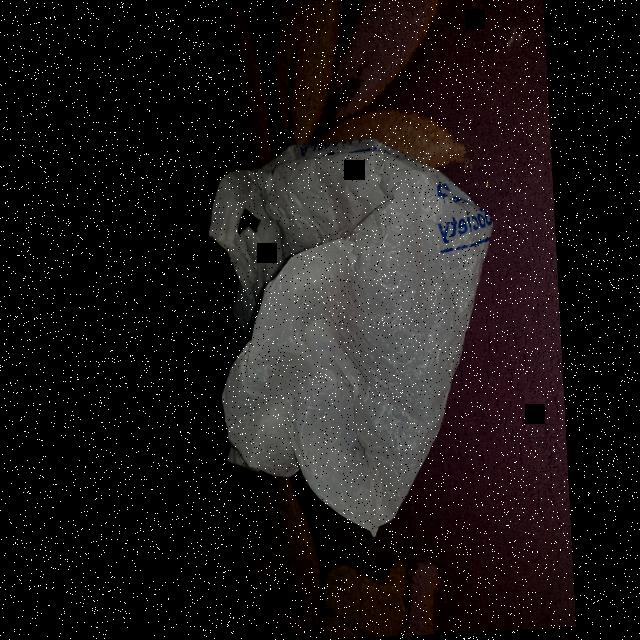plastic_bag: (197, 125, 515, 550)
